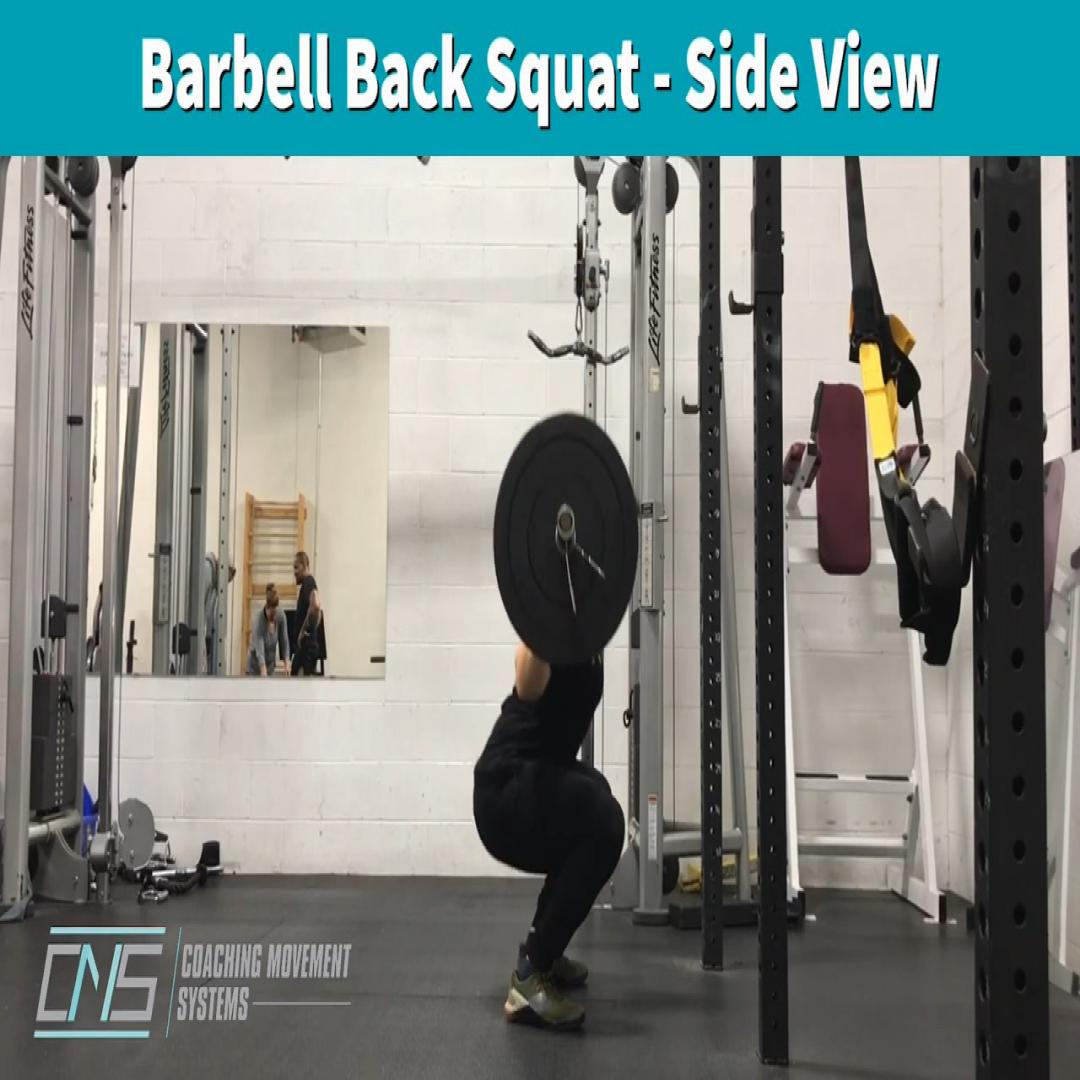Bar: (557, 506, 574, 538)
Barbell: (494, 414, 638, 662)
